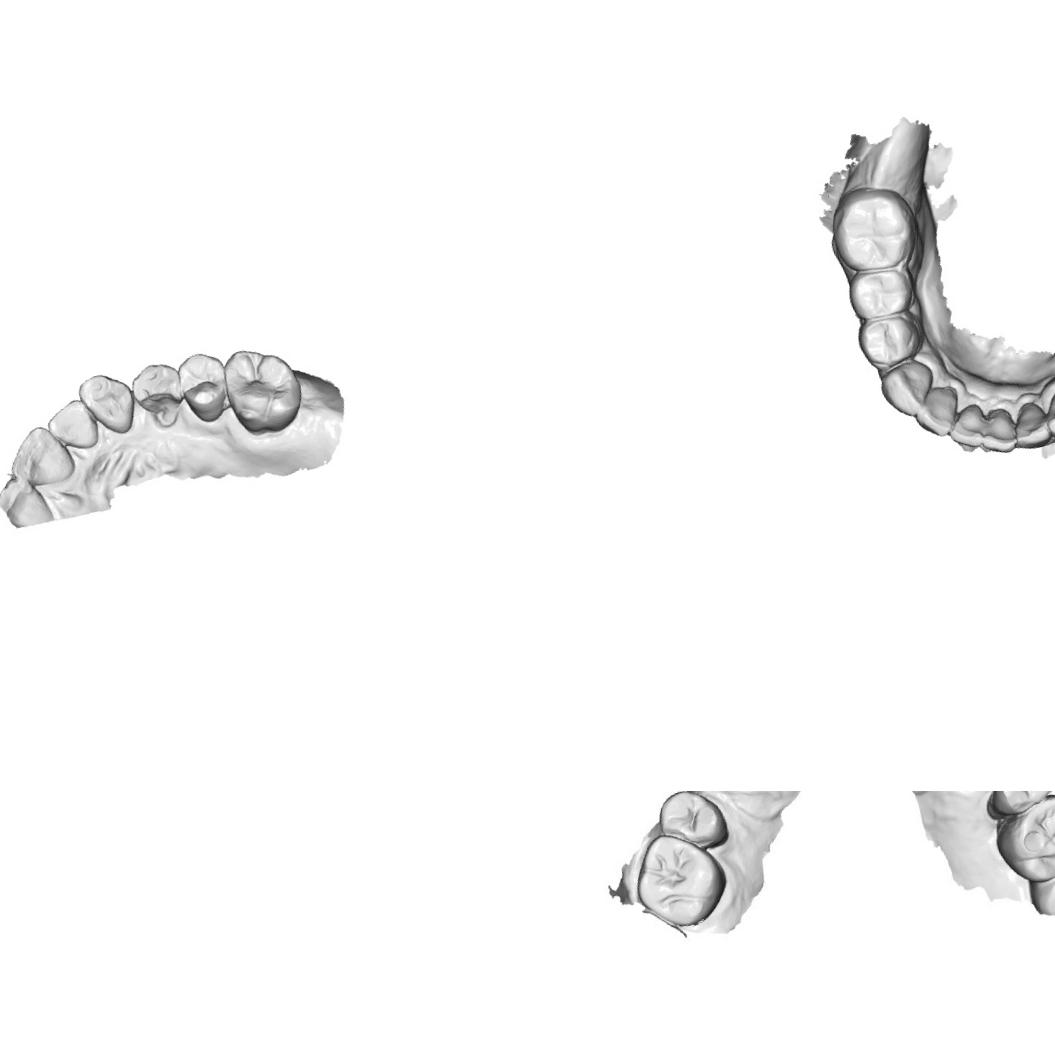canine: (73, 366, 142, 442), (874, 355, 943, 423), (1037, 378, 1055, 446)
incisor: (2, 419, 78, 492), (41, 393, 102, 457), (0, 467, 56, 536), (908, 380, 968, 443), (942, 400, 993, 454), (1006, 396, 1054, 452), (973, 404, 1021, 458)
molar: (621, 820, 734, 938), (820, 176, 925, 280), (216, 337, 310, 441), (987, 791, 1055, 891)
premolar: (646, 791, 733, 861), (850, 306, 931, 373), (841, 256, 920, 324), (172, 346, 236, 427), (125, 357, 187, 420), (976, 791, 1055, 825)
